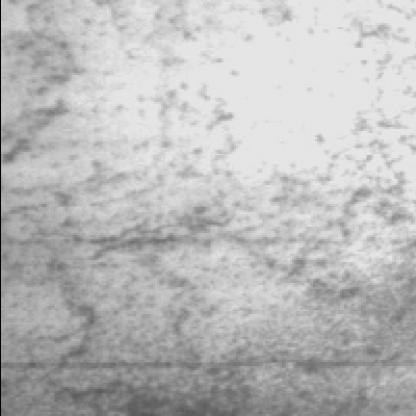pitted_surface: (48, 154, 378, 378), (131, 4, 401, 235), (0, 5, 85, 171)
